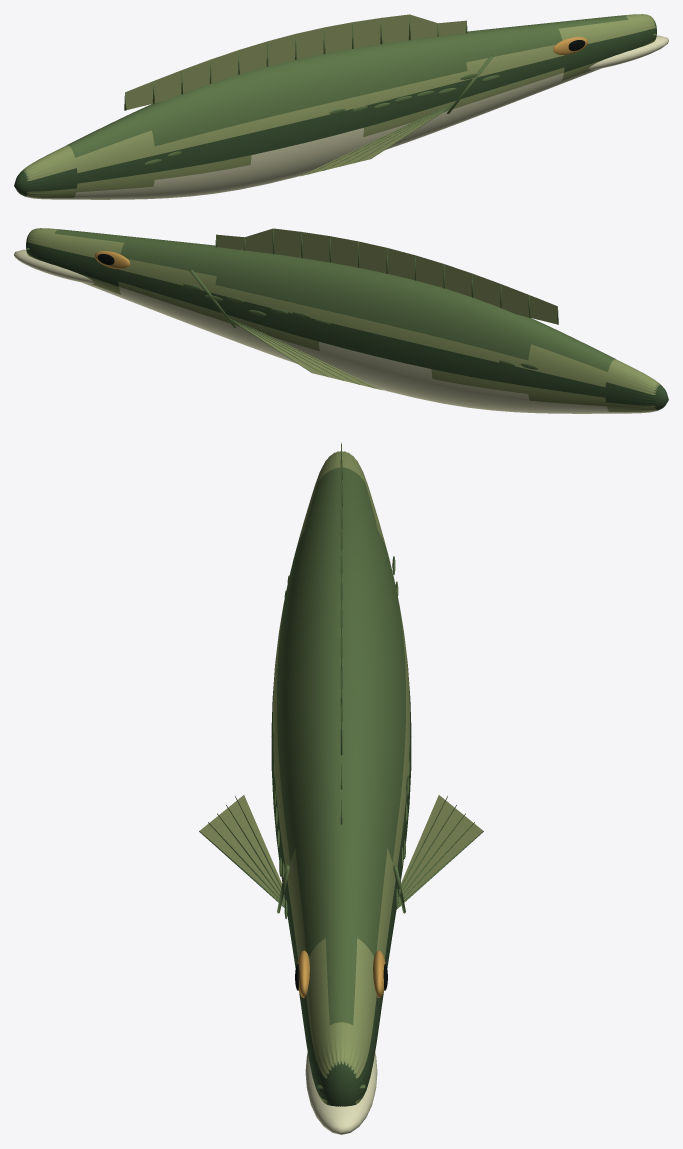
The model's file is SM_PikeBody.fbx.
The picture shows the model from 3 angles, top to bottom: view 1: azimuth 30°, elevation 25°; view 2: azimuth 150°, elevation 25°; view 3: azimuth 270°, elevation 25°; orthographic projection. The views are drawn at different scales.
Parts seen in each view (by area): view 1: SM_PikeBody; view 2: SM_PikeBody; view 3: SM_PikeBody.
Boxes of the visible parts, box(x1,y1,x2,y2) form: SM_PikeBody: box(14, 14, 668, 199); SM_PikeBody: box(14, 228, 668, 413); SM_PikeBody: box(199, 442, 483, 1134).
Bounding box in the file's own units: 65.6 × 12.37 × 13.49.
